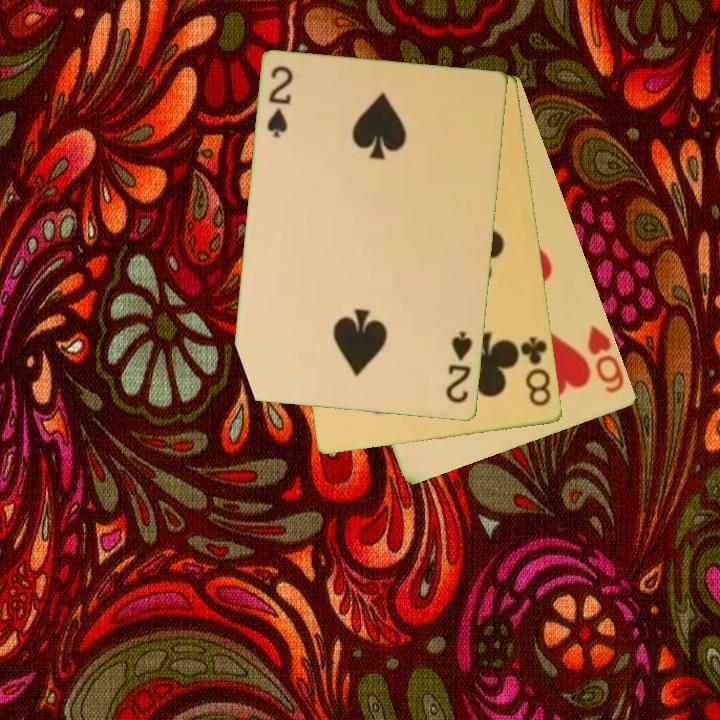2s: (263, 63, 297, 141), (443, 328, 476, 407)
6h: (584, 322, 628, 396)
8c: (516, 333, 554, 410)
